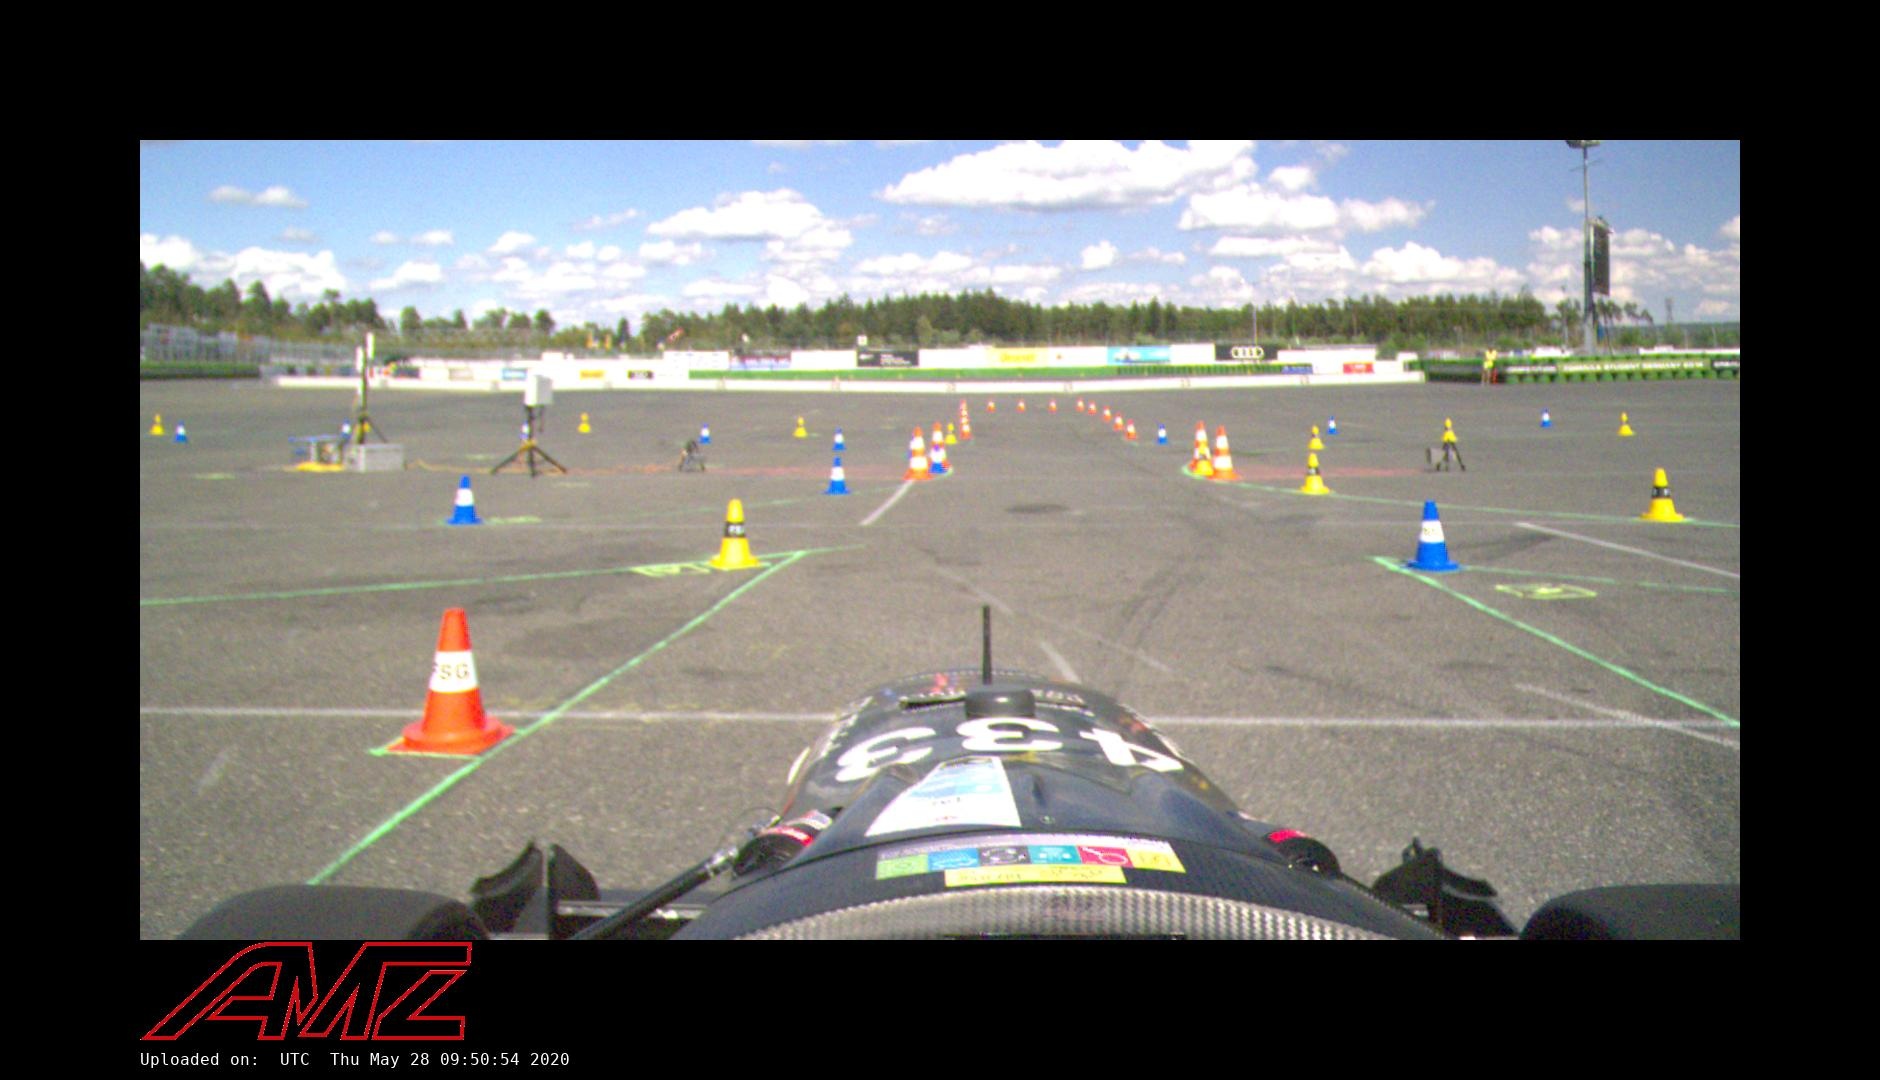blue_cone: (1404, 500, 1455, 571), (443, 475, 482, 524), (821, 451, 850, 493), (927, 443, 946, 474), (697, 422, 713, 448), (830, 428, 847, 450), (1156, 424, 1170, 444), (1540, 407, 1555, 428), (174, 422, 189, 441), (1327, 413, 1339, 435)
large_orange_cone: (1209, 426, 1241, 481), (903, 428, 932, 481), (1188, 421, 1212, 473), (928, 422, 948, 472)
orange_cone: (390, 605, 504, 751), (1125, 420, 1138, 439), (959, 420, 972, 439), (1113, 413, 1123, 430), (1103, 406, 1112, 421), (1076, 397, 1085, 411), (1017, 398, 1027, 411), (988, 400, 998, 411), (1048, 399, 1057, 411), (1088, 400, 1096, 413)
yellow_cone: (711, 501, 761, 571), (1636, 466, 1684, 522), (1299, 452, 1327, 499), (1192, 438, 1212, 477), (1307, 424, 1325, 450), (1441, 415, 1456, 443), (792, 415, 810, 438), (148, 410, 164, 435), (1617, 412, 1633, 435), (572, 415, 593, 431), (945, 422, 958, 444)
